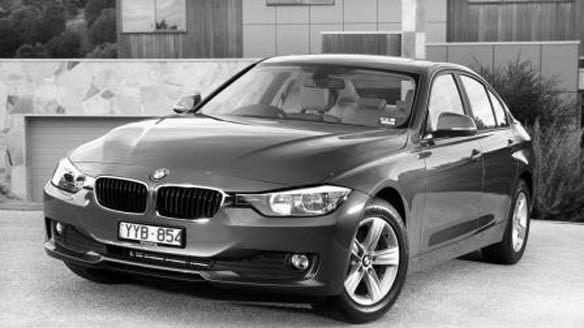car: (40, 51, 538, 326)
